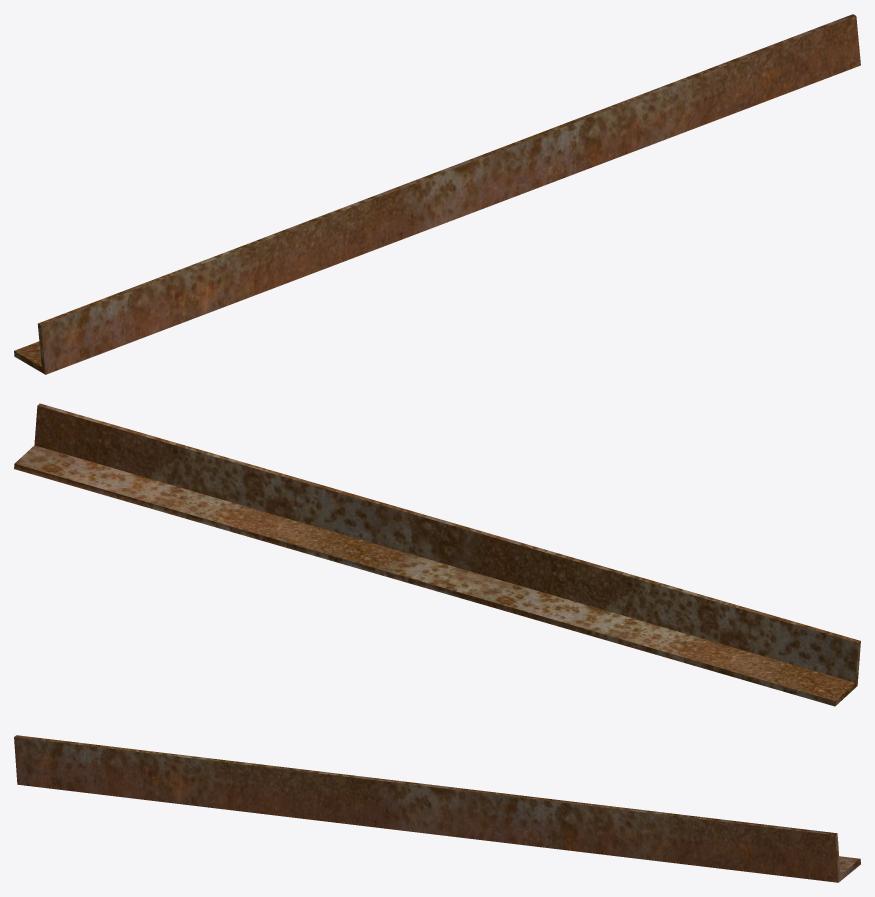
File: junk_scrap_02.glb
3 renders of one model, top to bottom at view 1: azimuth 30°, elevation 25°; view 2: azimuth 150°, elevation 25°; view 3: azimuth 330°, elevation 25°, orthographic. The views are drawn at different scales.
Visible parts, largest first — view 1: junk_scrap_02; view 2: junk_scrap_02; view 3: junk_scrap_02.
Part boxes in pixels (x1=…): junk_scrap_02: x1=14, y1=14, x2=860, y2=374; junk_scrap_02: x1=14, y1=403, x2=860, y2=706; junk_scrap_02: x1=14, y1=735, x2=860, y2=882.
Size of what is drawn, in the model's own units: 0.7247 by 0.1024 by 0.0935.
1 material, 1 textured.
